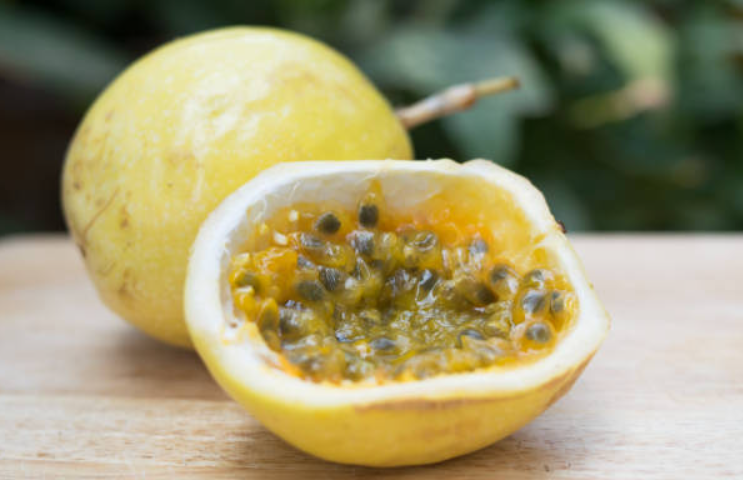maracuya: (47, 20, 418, 359)
